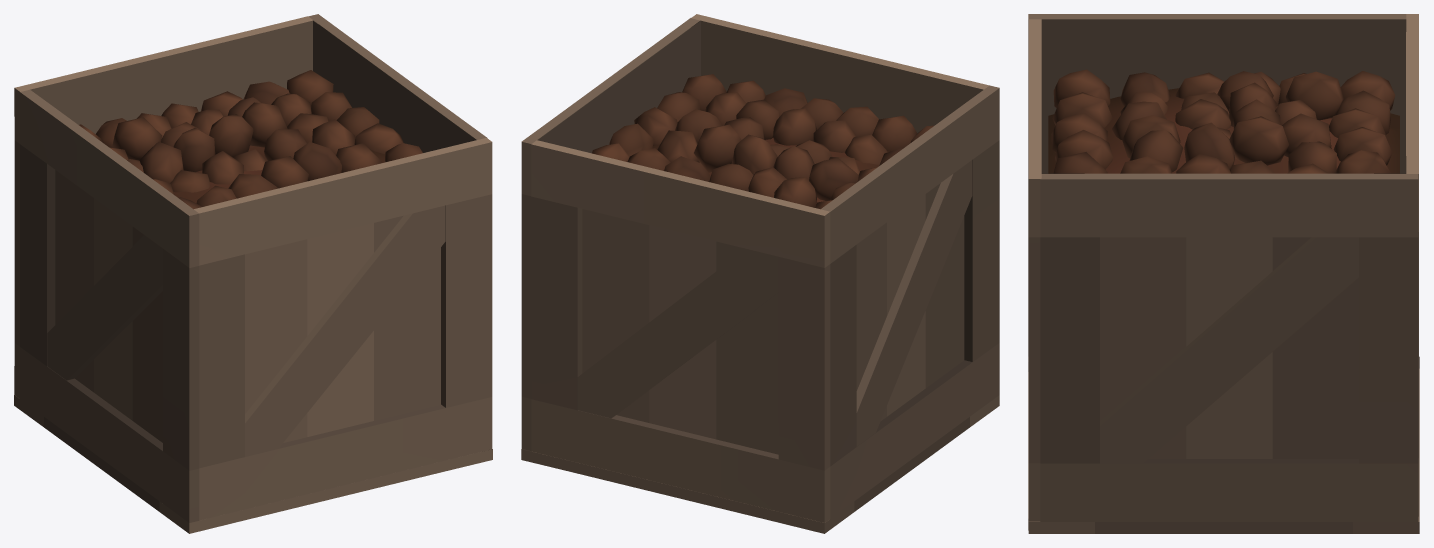
Rendered from consumables-vegetables-producecrate_v1.fbx.
The picture shows the model from 3 angles, left to right: view 1: azimuth 30°, elevation 25°; view 2: azimuth 150°, elevation 25°; view 3: azimuth 270°, elevation 25°; orthographic projection. The views are drawn at different scales.
Parts seen in each view (by area): view 1: ProduceCrate_v1_base3, ProduceCrate_v1_color; view 2: ProduceCrate_v1_base3, ProduceCrate_v1_color; view 3: ProduceCrate_v1_base3, ProduceCrate_v1_color.
Boxes of the visible parts, <box> form: ProduceCrate_v1_base3: <box>14,14,492,533</box>; ProduceCrate_v1_color: <box>79,70,422,209</box>; ProduceCrate_v1_base3: <box>521,14,999,533</box>; ProduceCrate_v1_color: <box>592,74,933,209</box>; ProduceCrate_v1_base3: <box>1028,14,1419,533</box>; ProduceCrate_v1_color: <box>1048,69,1399,173</box>.
Size of the model in its own units: 0.491 by 0.4913 by 0.4908.
